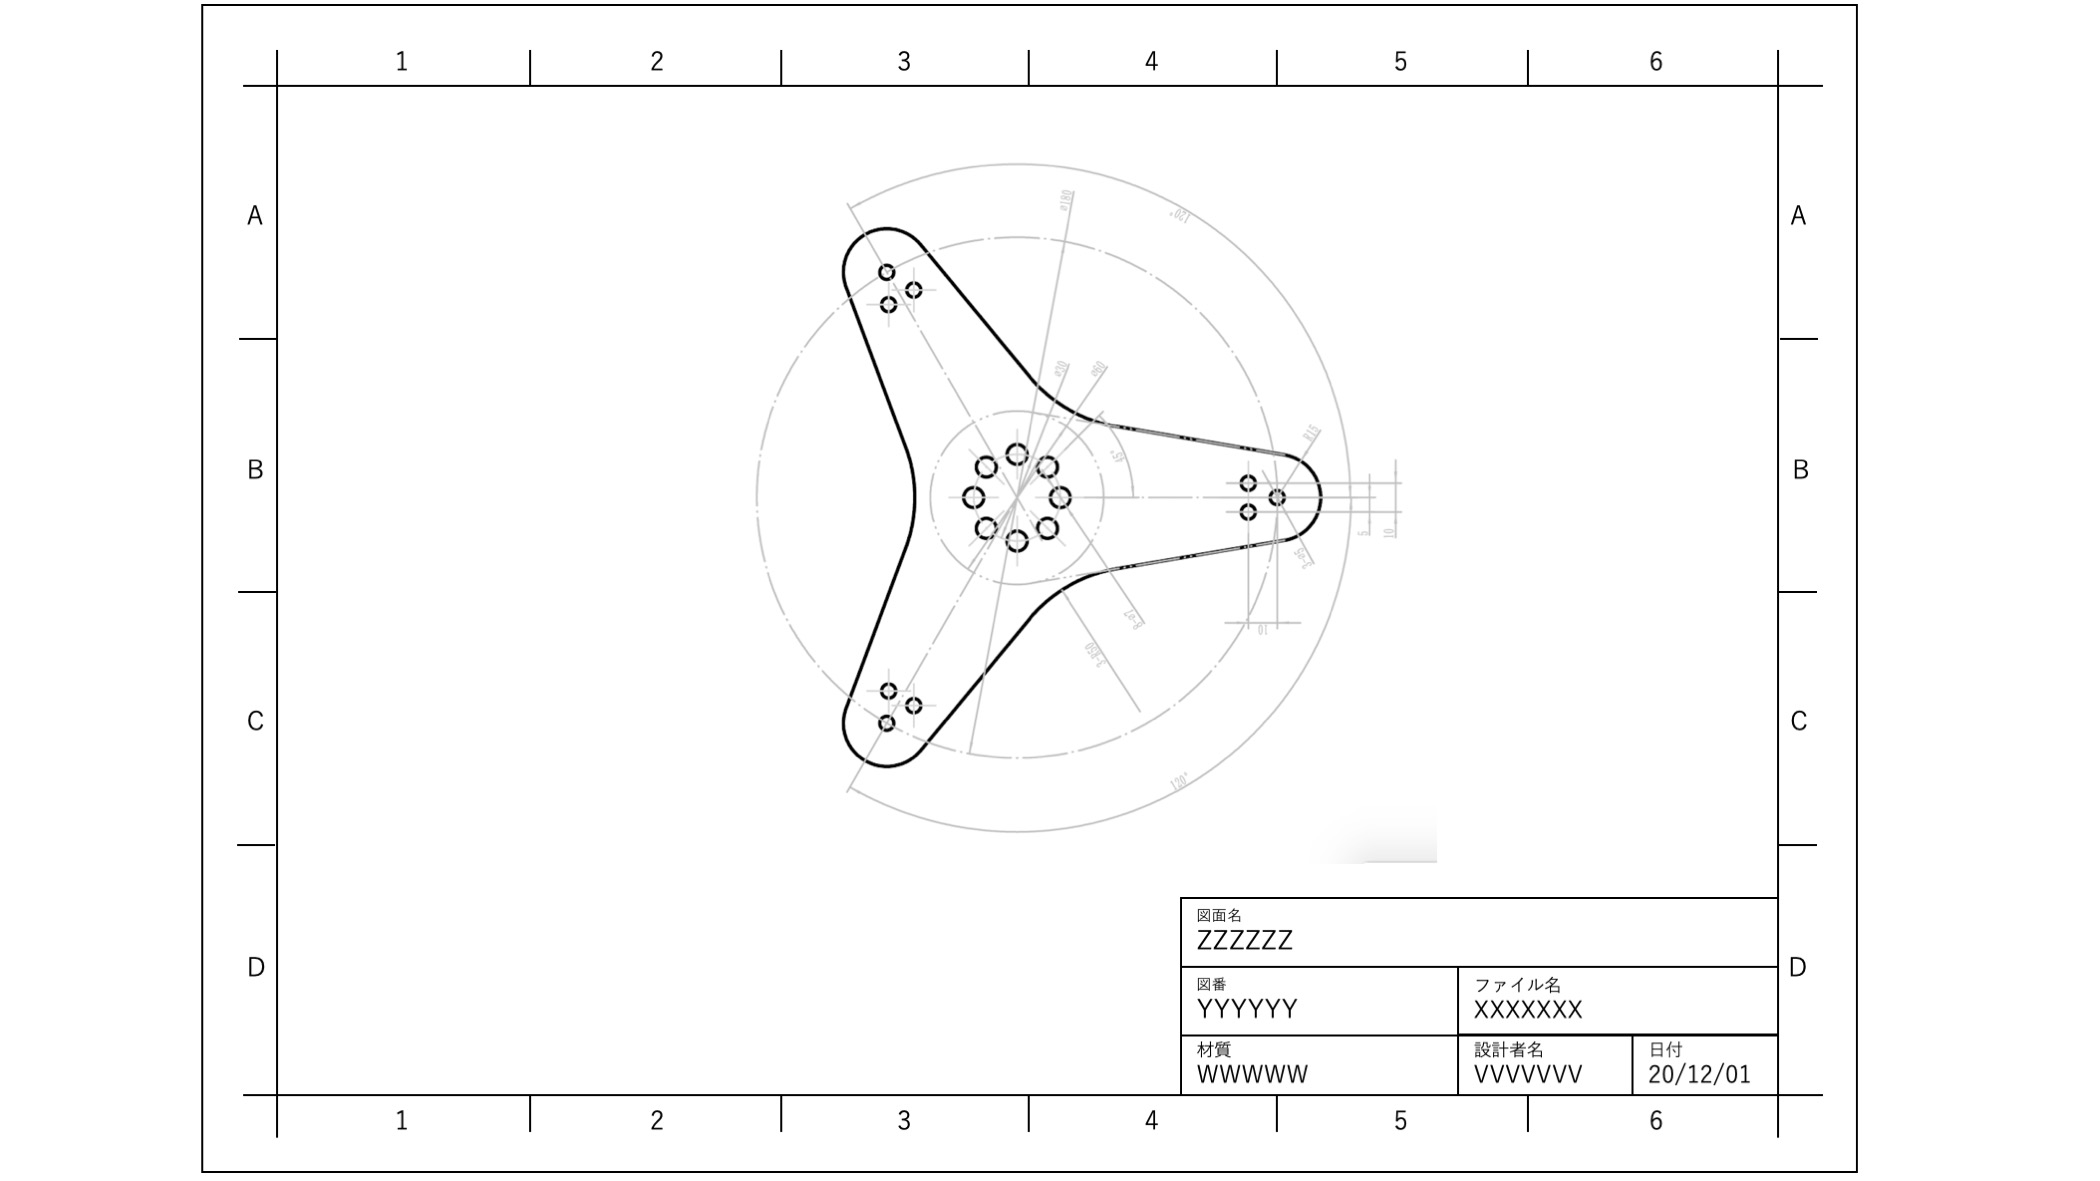circle: (961, 477, 988, 512), (972, 447, 998, 480), (1004, 438, 1030, 470), (1000, 528, 1033, 552), (1036, 450, 1062, 479), (1230, 500, 1263, 522), (1033, 513, 1059, 541), (1047, 482, 1073, 509), (972, 513, 997, 542), (873, 711, 899, 734), (904, 273, 925, 301), (1235, 469, 1259, 492), (875, 260, 897, 283), (903, 692, 925, 715), (1268, 485, 1288, 508), (877, 294, 901, 313), (875, 679, 897, 699)
